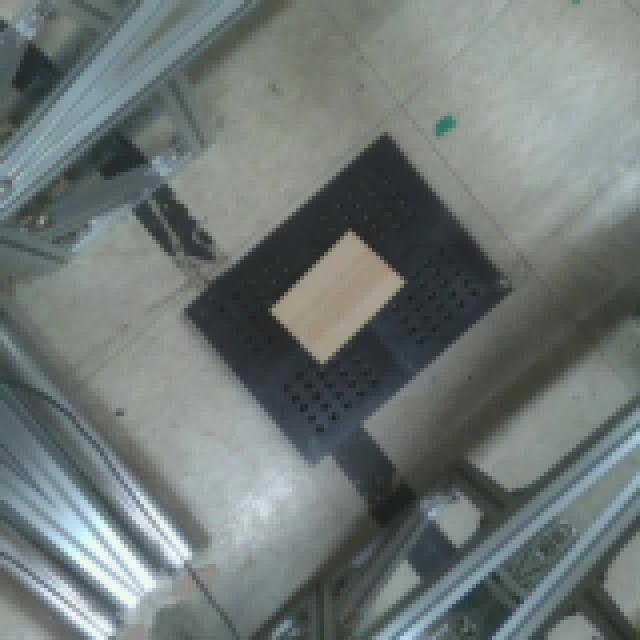box: (258, 218, 412, 372)
pallet: (176, 127, 530, 470)
